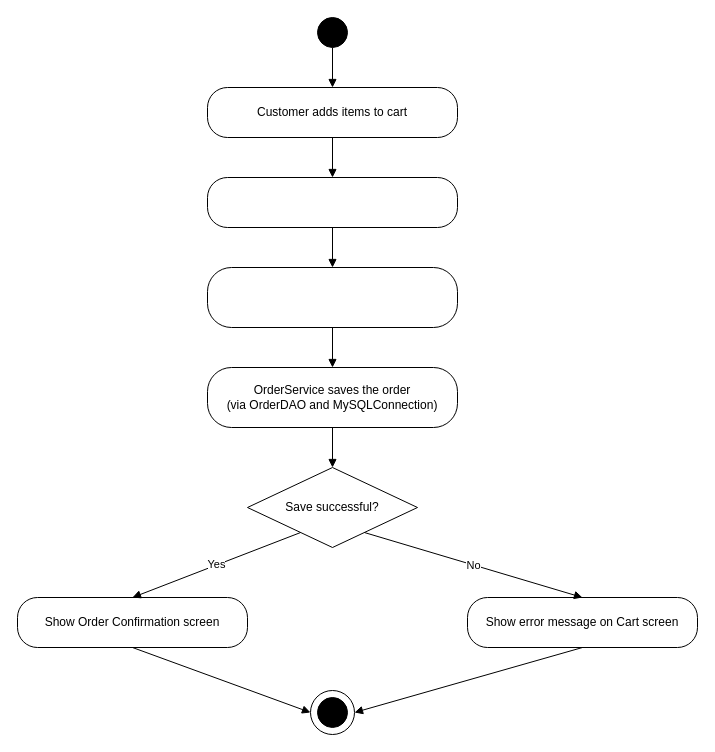
Some shapes in this 715 by 752 pixel diagram are drawn without their labels. Here are the shapes that lost their labels. From the top down, the box of each, then its label:
(206, 176, 458, 228): Customer clicks Place Order
(206, 266, 458, 328): System creates Order and calculates total (via PricingStrategy)
